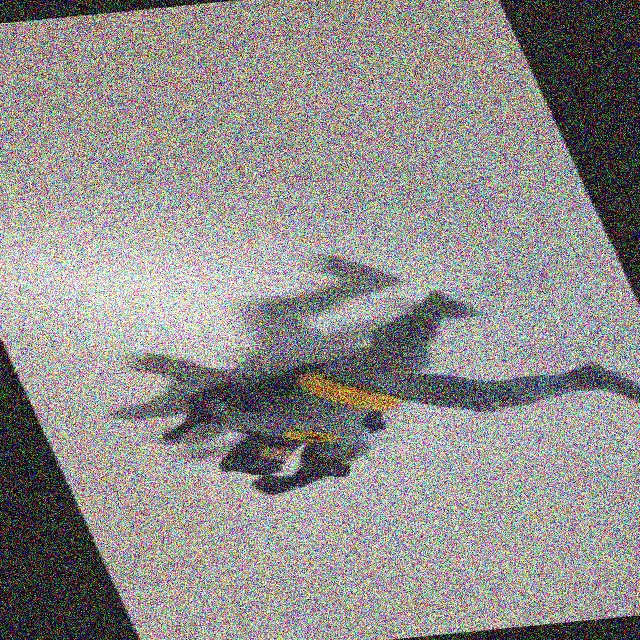Batman: (115, 277, 640, 502)
